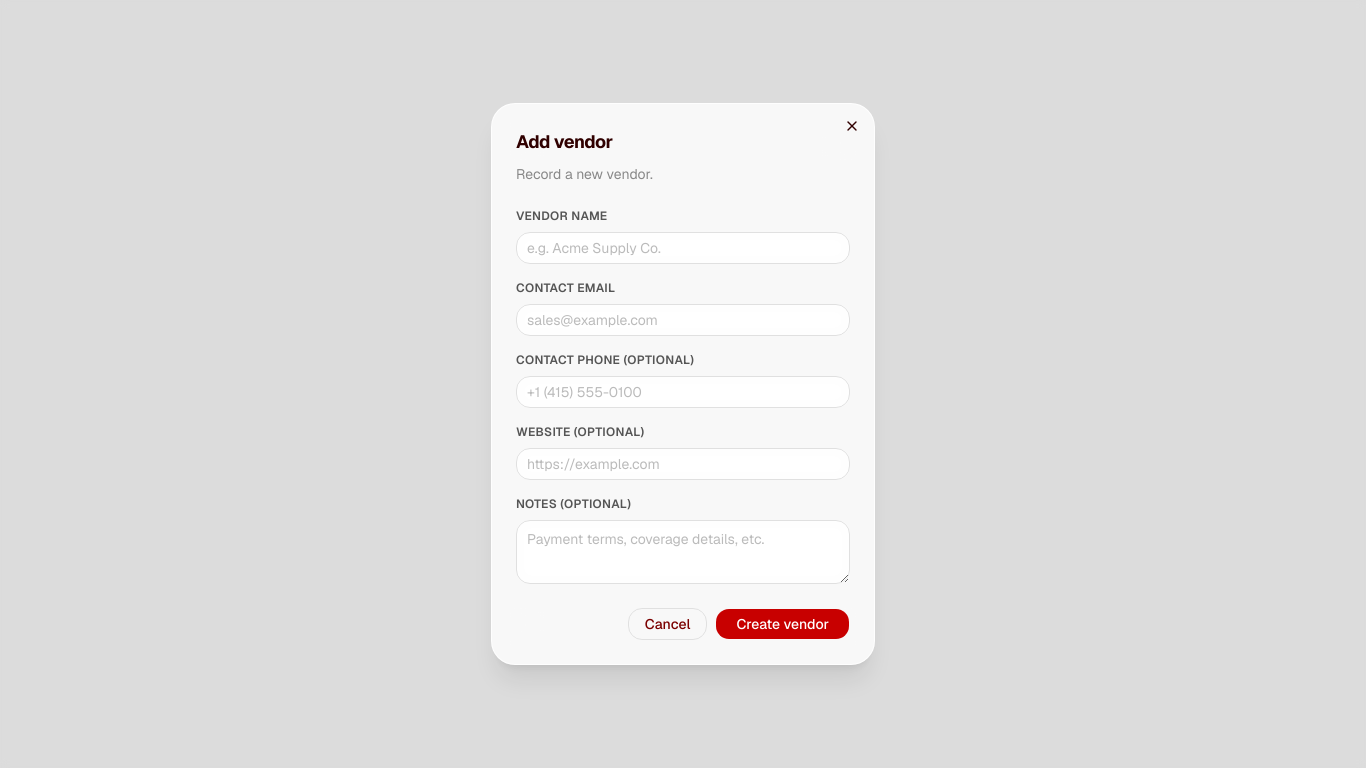
Test case: VendorFormModal › shows a validation error when the email is empty
Type "Nameless" into the field with test id "vendor-form-name" at (683, 248), box [516, 232, 850, 264]
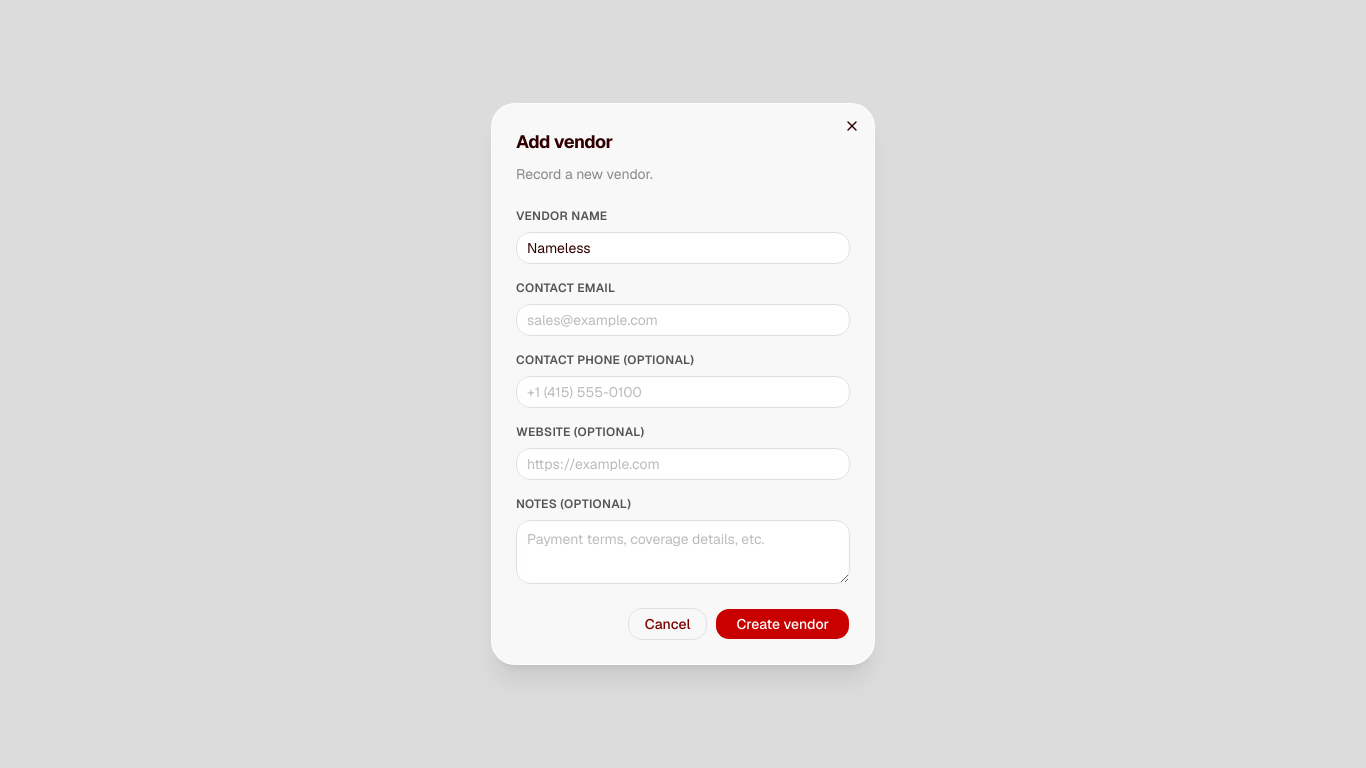
Submit the form with test id "vendor-form", box [516, 208, 850, 640]
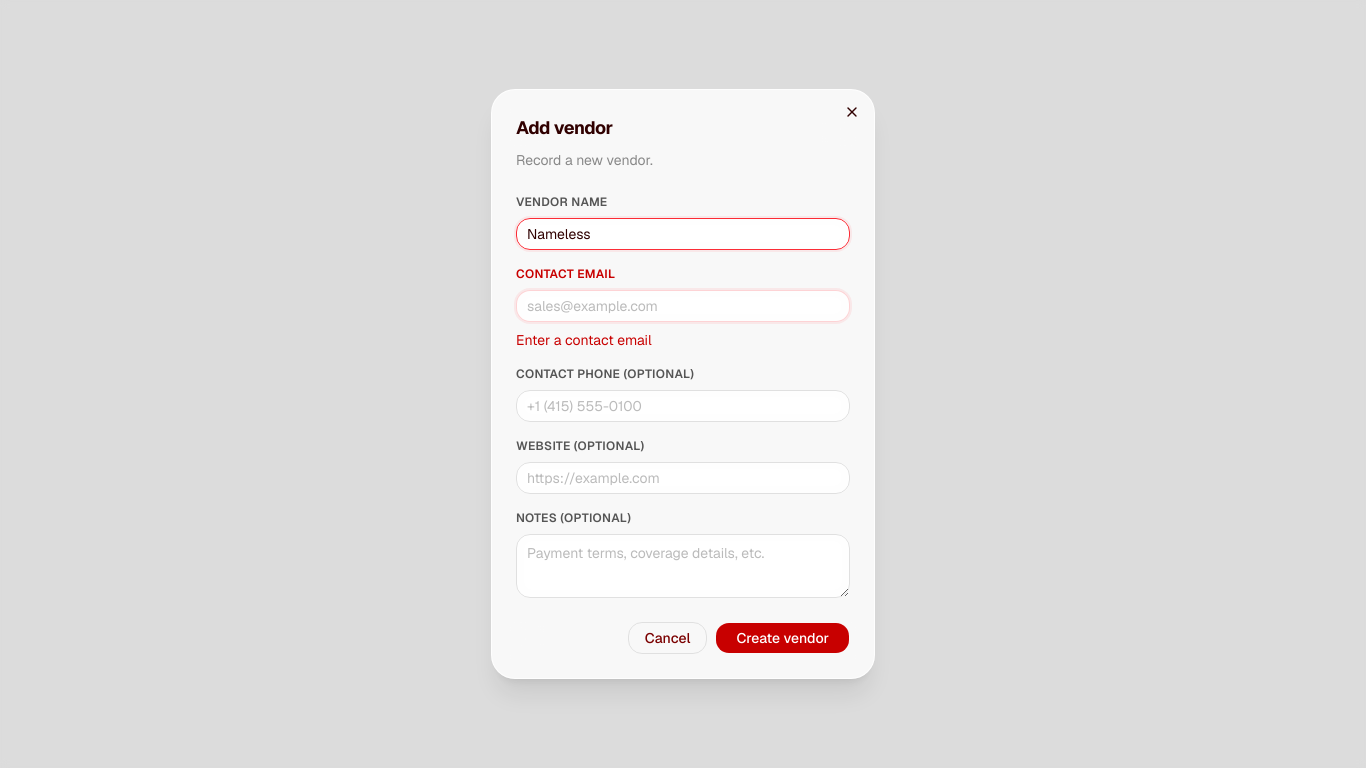
expect the text "Enter a contact email" is shown: met, box [516, 331, 652, 349]
